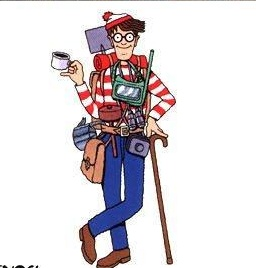waldo: (96, 5, 159, 263), (100, 7, 149, 65)
